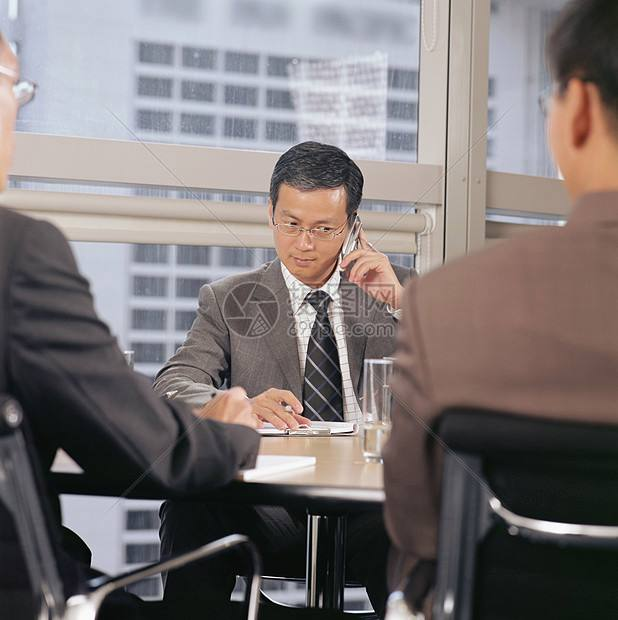calling: (339, 209, 404, 302)
